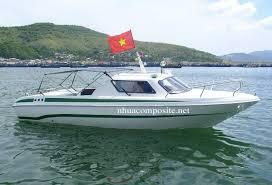Ship: (14, 66, 260, 130)
